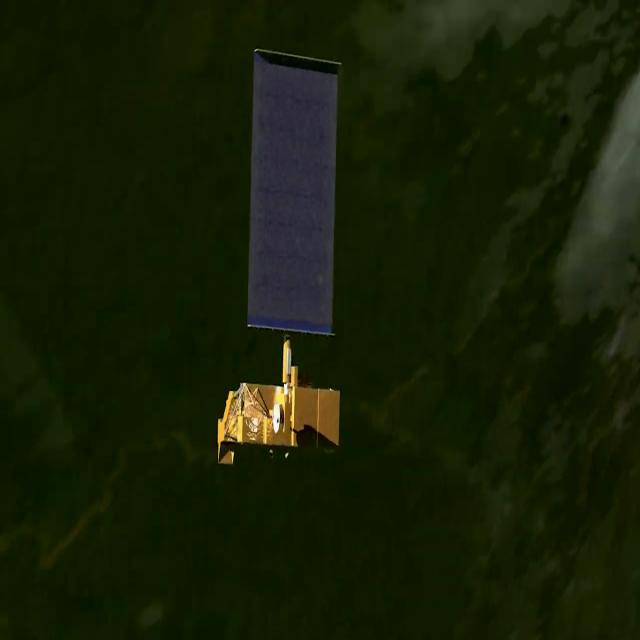medium_debris: (197, 24, 372, 489)
